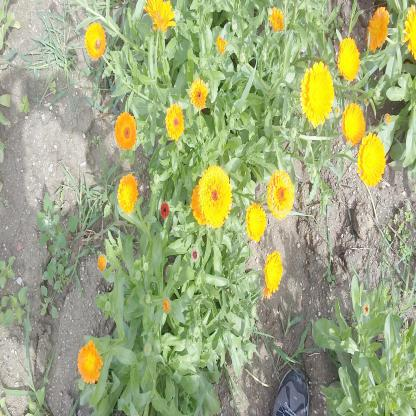marigold: (300, 60, 335, 129), (198, 164, 233, 230), (356, 132, 386, 188), (266, 168, 295, 221), (77, 338, 104, 383), (190, 180, 215, 226), (341, 102, 366, 146), (365, 7, 390, 51), (337, 37, 360, 83), (144, 0, 176, 33), (244, 200, 267, 242), (116, 173, 139, 214), (115, 111, 137, 150), (84, 21, 106, 59), (165, 102, 185, 141), (264, 249, 282, 291), (189, 76, 207, 110)
